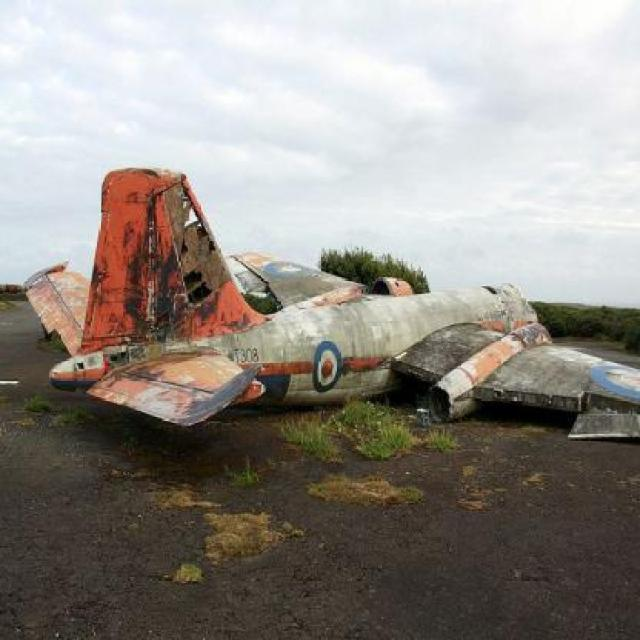corrosion: (29, 160, 640, 434)
